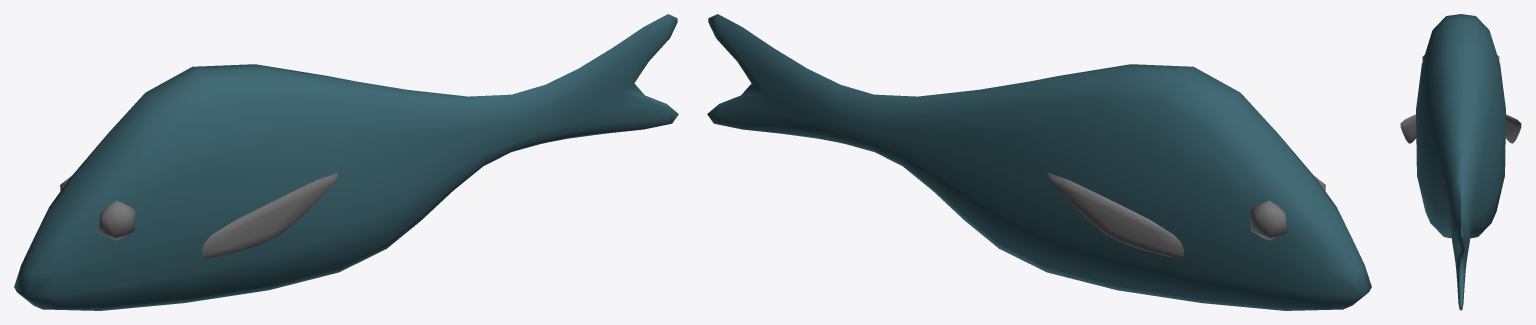
The model's file is fish.fbx.
3 views of the same model, side by side, from view 1: azimuth 30°, elevation 25°; view 2: azimuth 150°, elevation 25°; view 3: azimuth 270°, elevation 25° (orthographic). The views are drawn at different scales.
Visible parts, largest first — view 1: fish; view 2: fish; view 3: fish.
Boxes of the visible parts, x1,y1,x2,y2 form: fish: (14,14,678,310); fish: (707,14,1371,310); fish: (1400,14,1521,310).
Size of the model in its own units: 0.2929 by 0.0632 by 0.0949.
